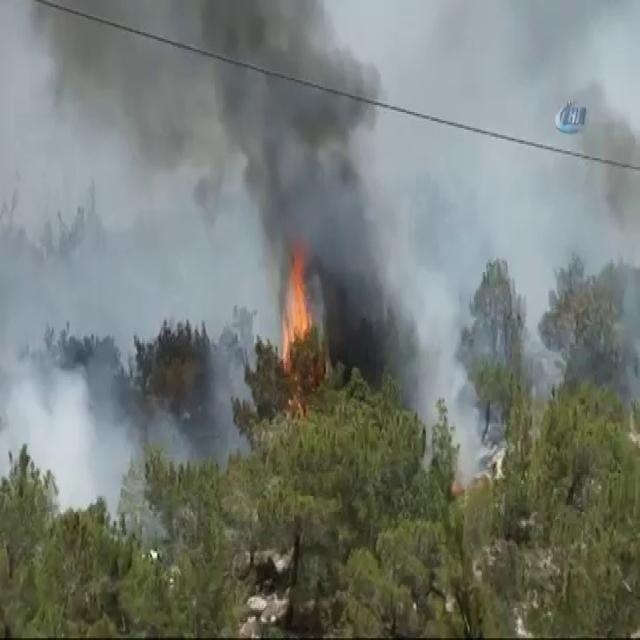Fire: (280, 270, 324, 384)
Smoke: (18, 208, 159, 514), (220, 0, 377, 228), (386, 247, 492, 422)
